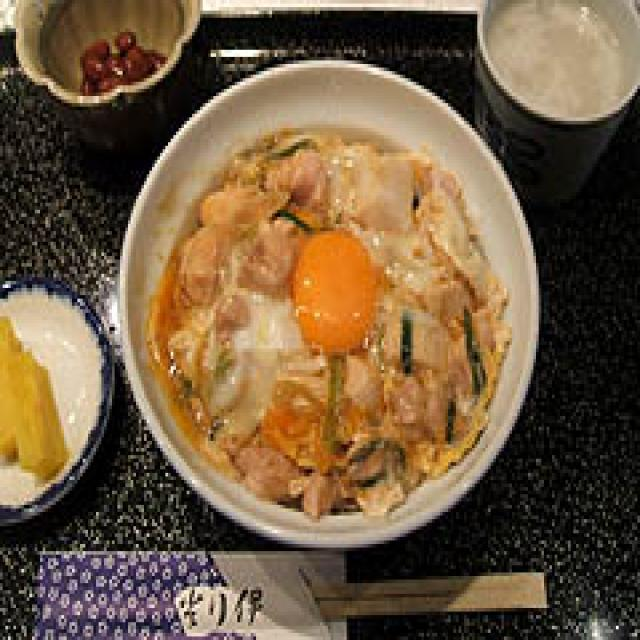米饭主食: (115, 46, 544, 544)
